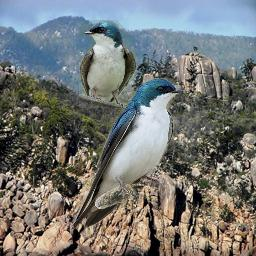Swallow: (70, 78, 184, 232), (79, 20, 136, 108)
